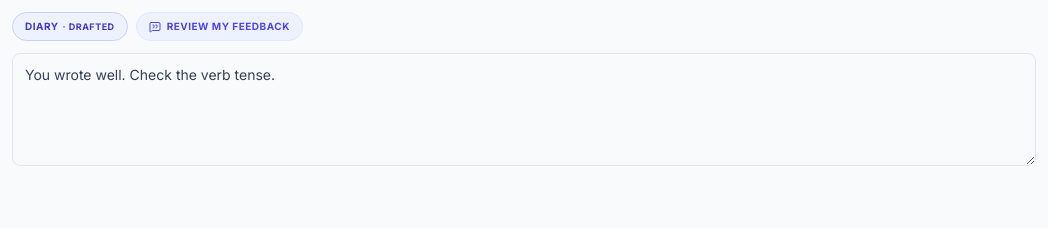
Test: fixable server error codes offer the action › not_authenticated shows a button that calls the handler with sign_in_microsoft
The image size is (1048, 228).
Later steps or results of the test are not shown.
Click the button "Review my feedback" at (219,26), box x1=136 y1=12 x2=303 y2=41
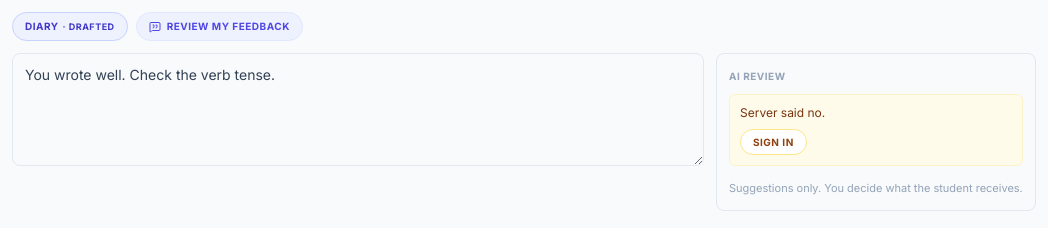
expect the text "Server said no." is shown: met, box x1=740 y1=105 x2=825 y2=120
expect the button "Sign in" is shown: met, box x1=740 y1=129 x2=807 y2=155
